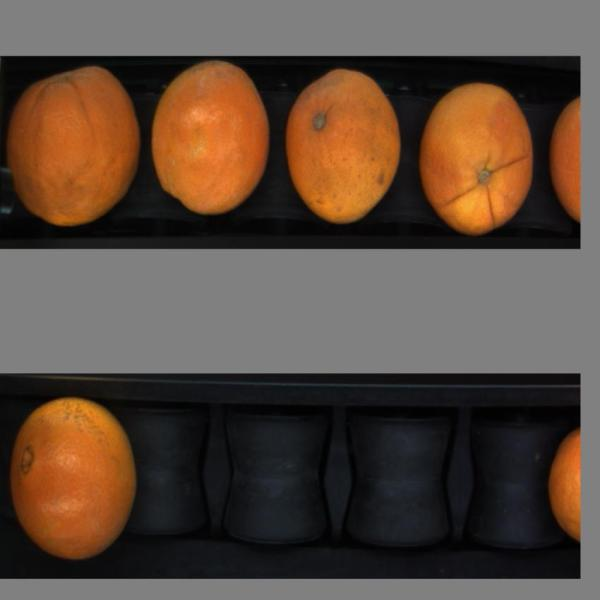Otros defectos: (281, 64, 405, 228), (414, 77, 538, 235)
Sana: (5, 392, 146, 565), (6, 64, 144, 229), (148, 59, 278, 223), (547, 91, 583, 224), (548, 422, 580, 548)
